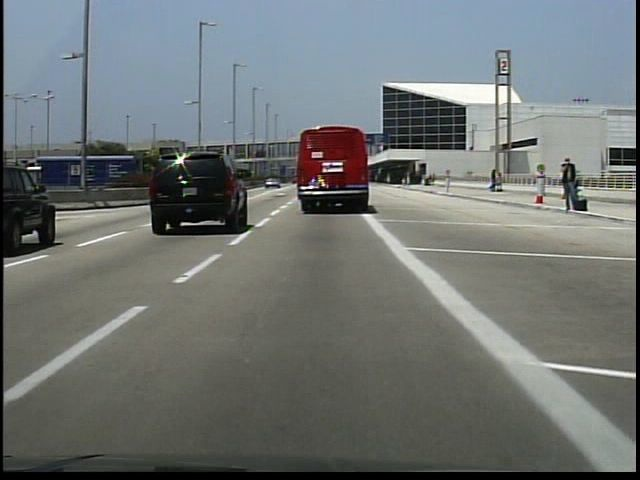person: (557, 153, 581, 217), (561, 172, 584, 205)
